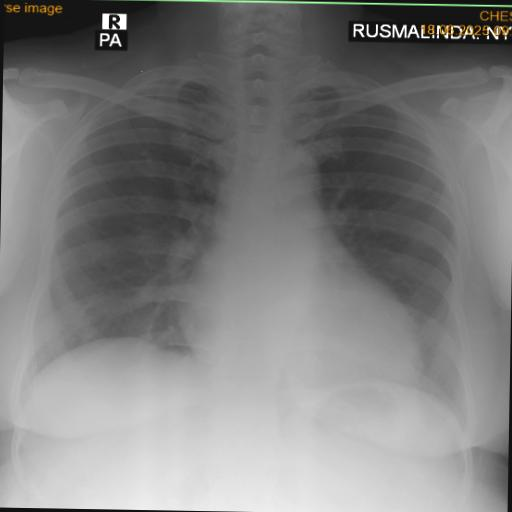kardiomegali: (168, 235, 436, 400)
